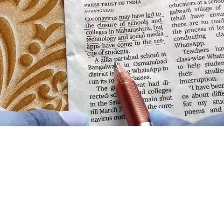book: (59, 0, 224, 126)
